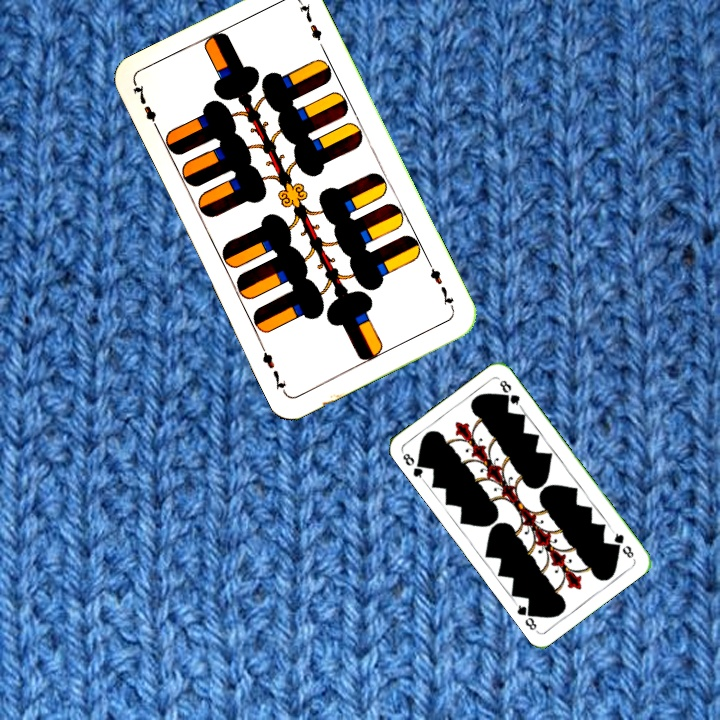E7: (129, 80, 163, 136), (424, 258, 457, 313)
G8: (398, 448, 428, 484), (608, 527, 637, 561)
